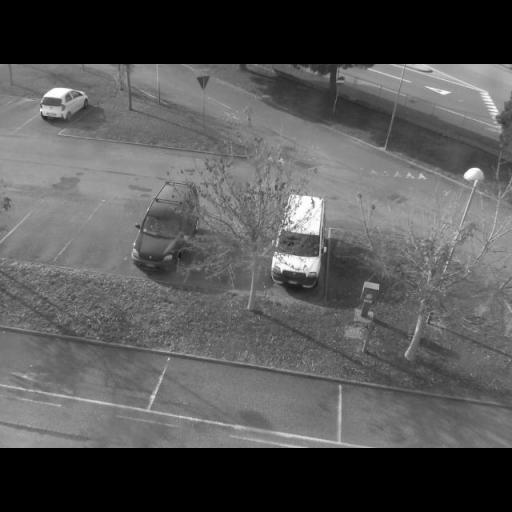busy: (128, 188, 206, 276), (36, 89, 90, 122)
free: (175, 364, 308, 428), (358, 394, 500, 448), (10, 342, 124, 396), (84, 209, 130, 276), (21, 211, 70, 264), (11, 94, 34, 126)
